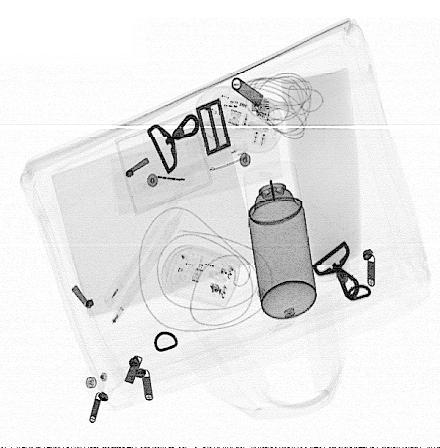Sprayer: (242, 160, 316, 319)
